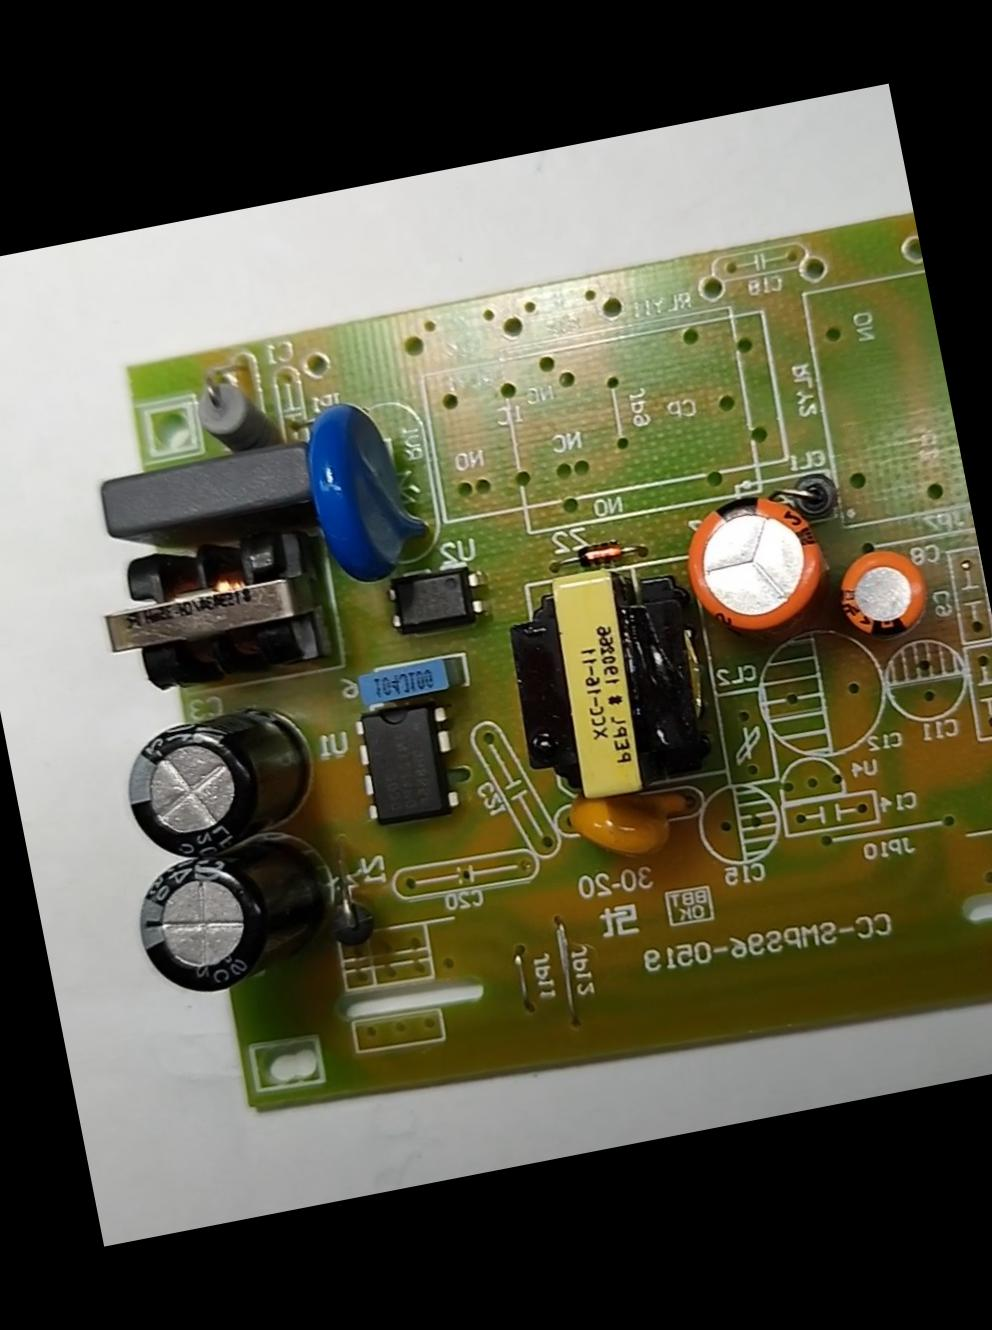Cap1: (669, 479, 842, 642)
Cap2: (825, 538, 936, 649)
Cap3: (115, 701, 327, 872)
Cap4: (124, 832, 346, 1008)
MOSFET: (345, 696, 471, 832)
Mov: (293, 387, 445, 596)
Resistor: (189, 365, 280, 456)
Transformer: (491, 554, 719, 813), (81, 511, 331, 703)
